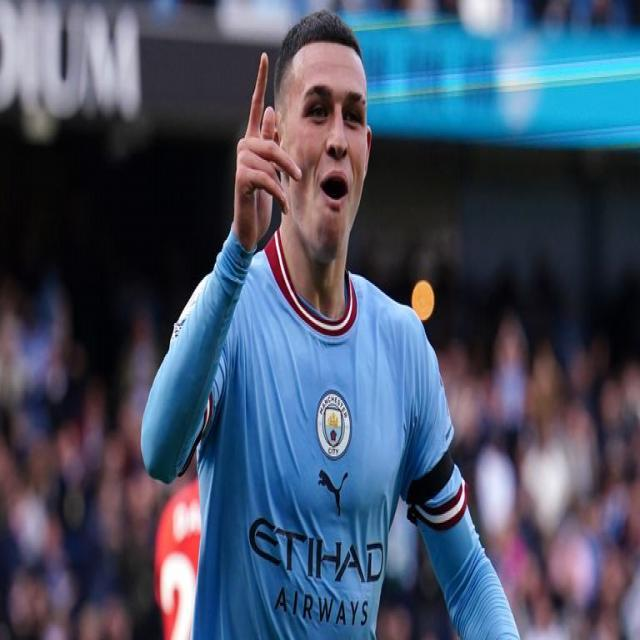Etihad Airways: (251, 515, 384, 625)
